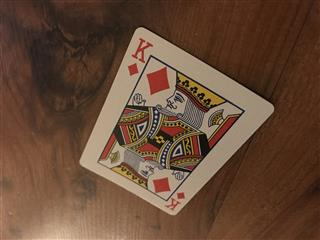KingOfDiamonds: (77, 25, 274, 215)
